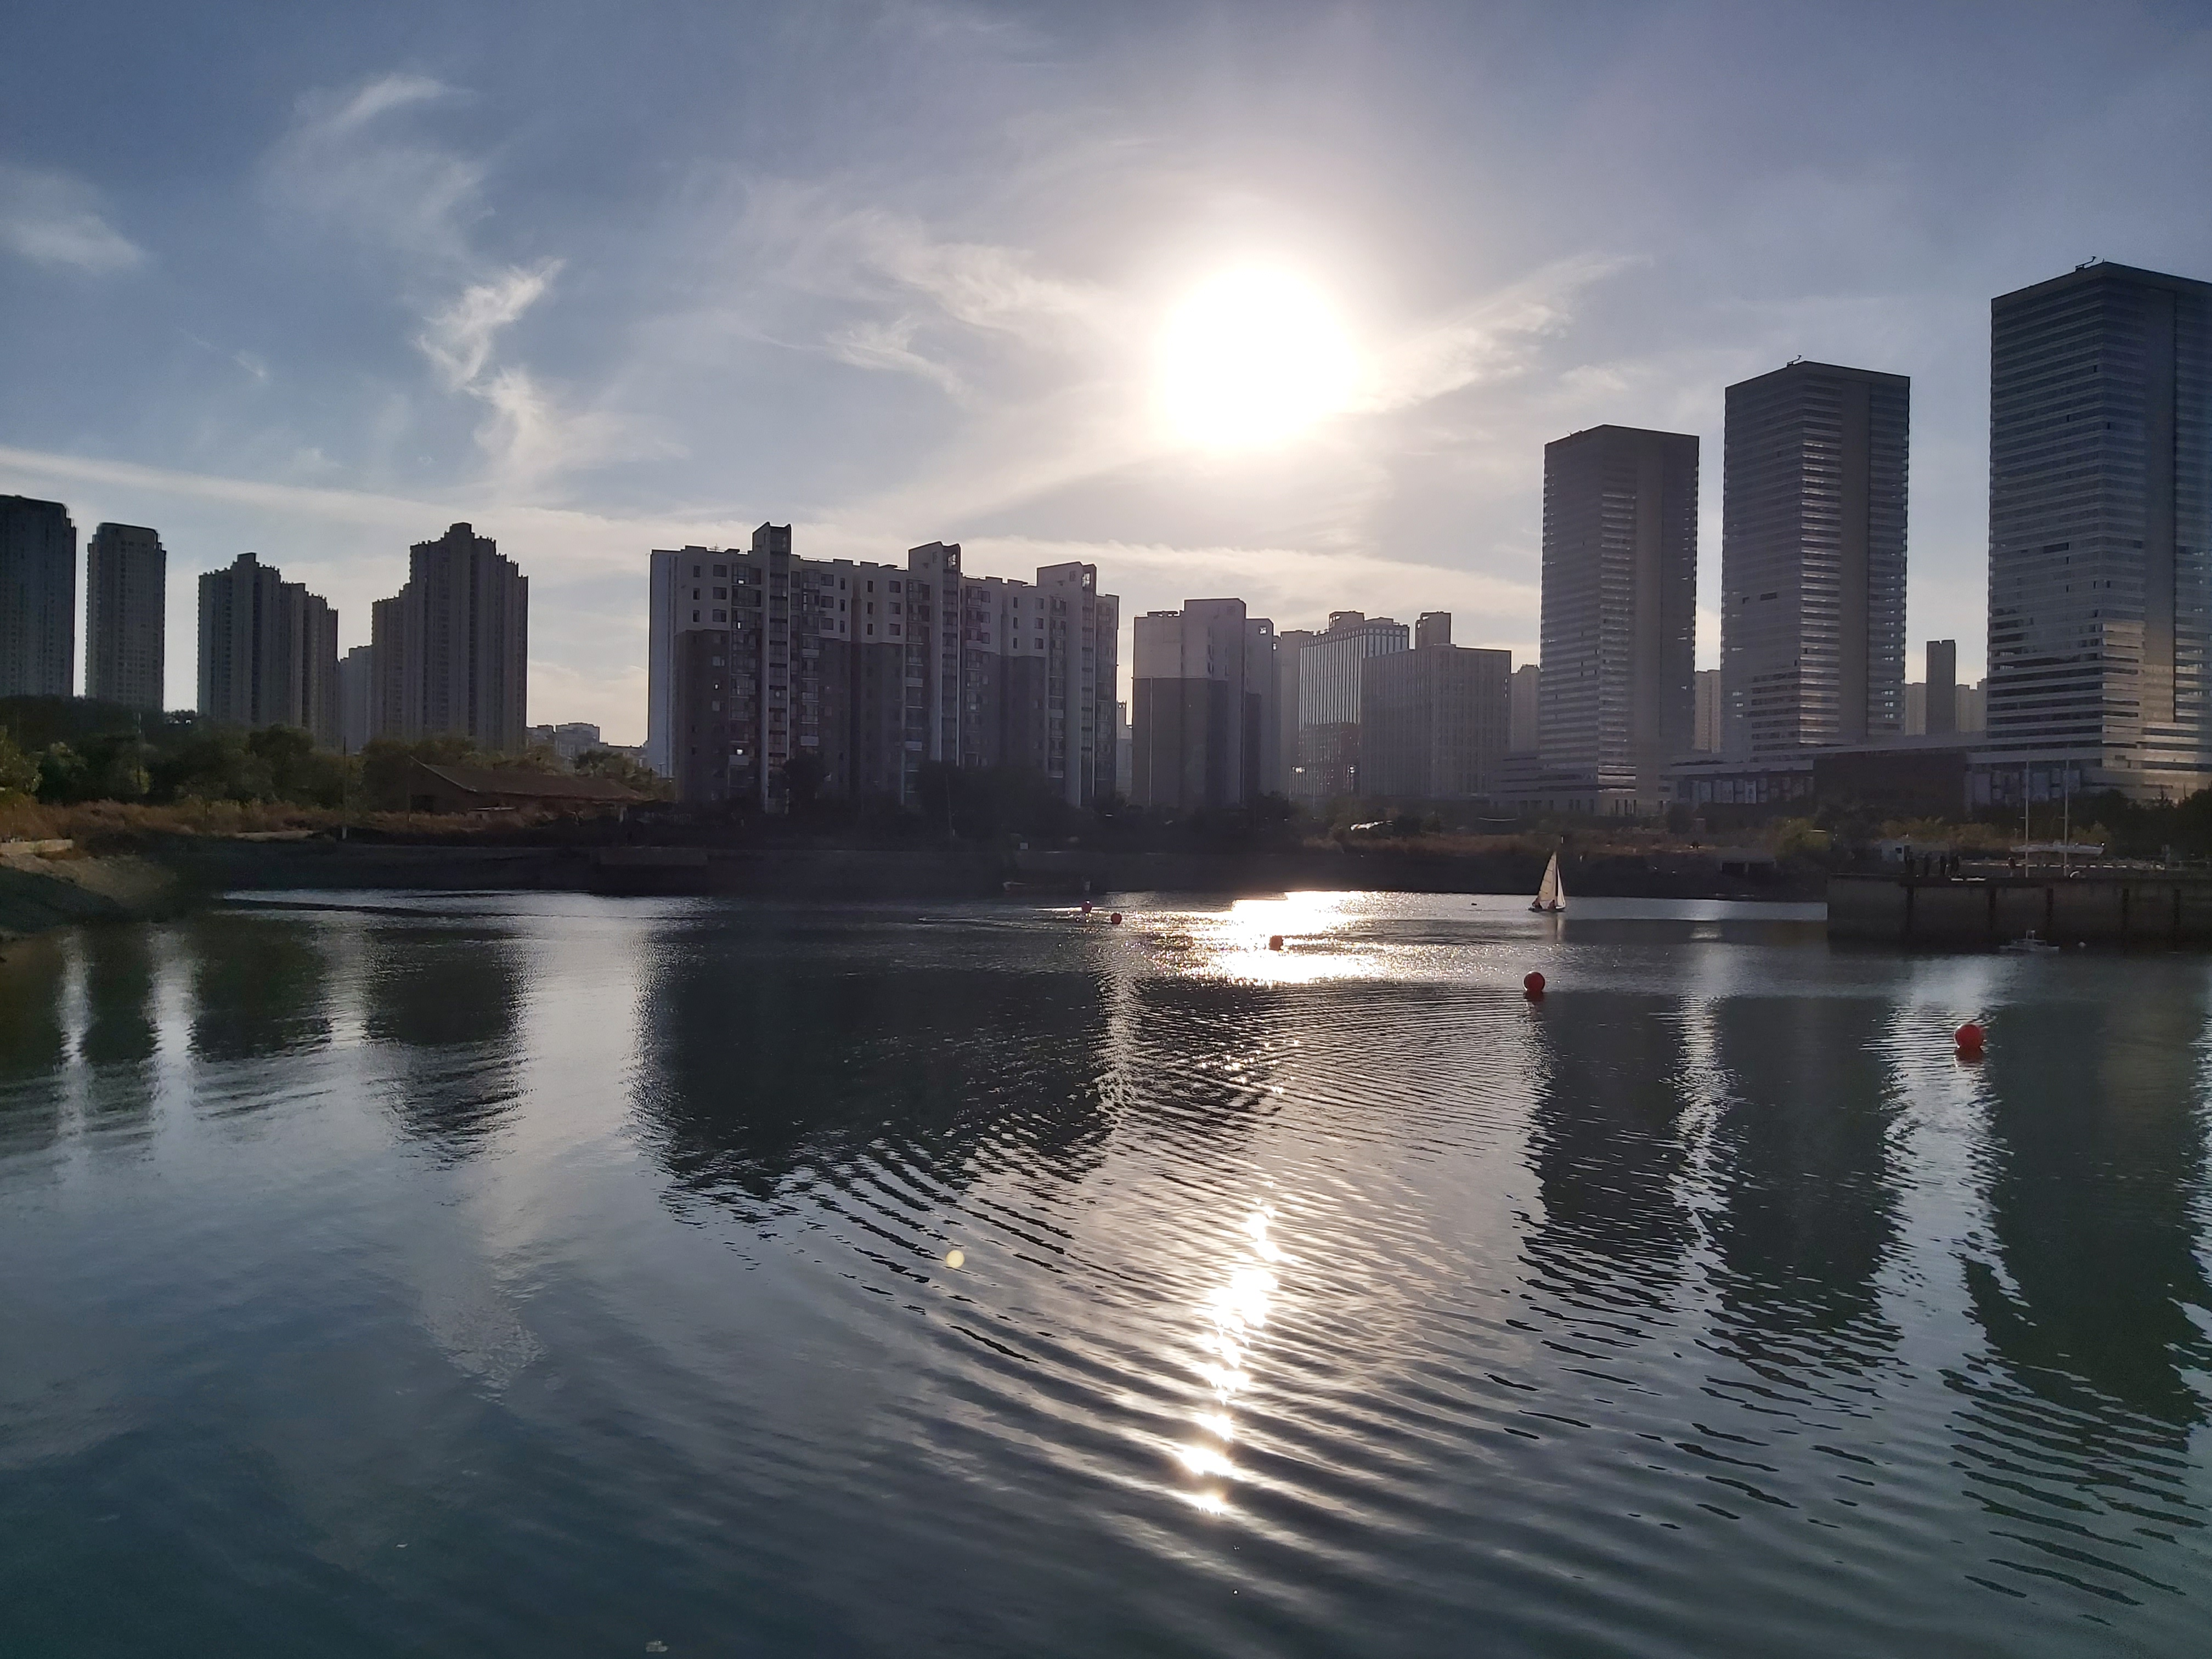ball: (1951, 1019, 1994, 1056), (1522, 971, 1554, 997)
boat: (1527, 847, 1573, 918)
